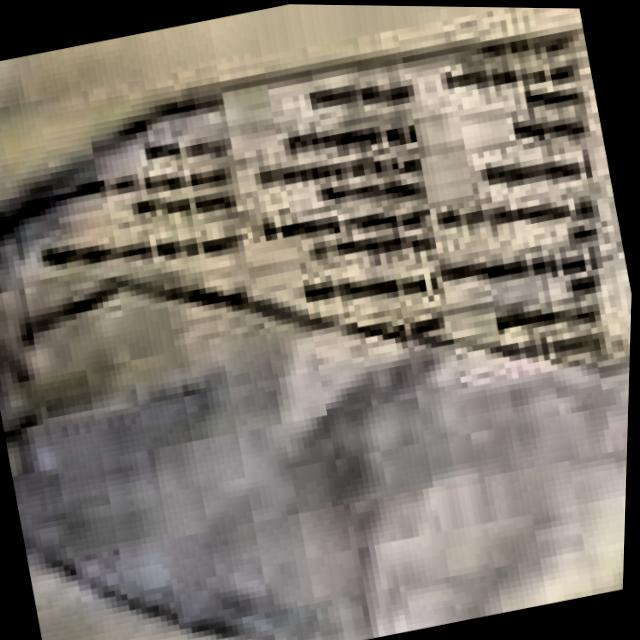paper: (0, 28, 633, 640)
